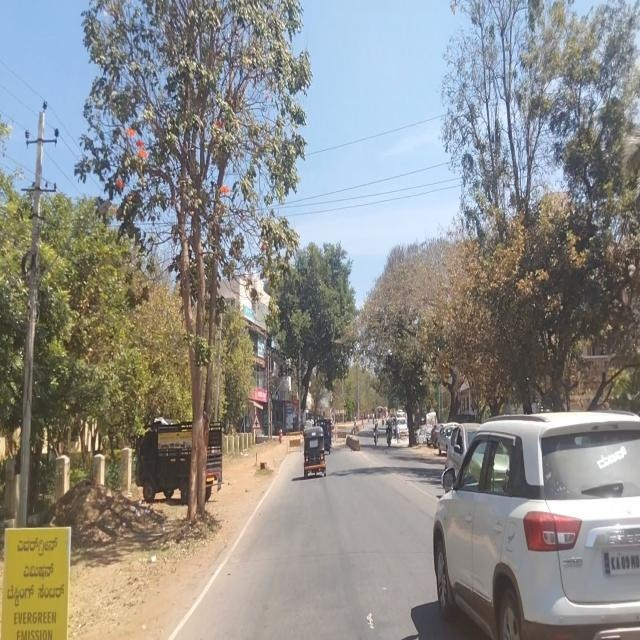bien_nguy_hiem: (252, 413, 260, 430)
